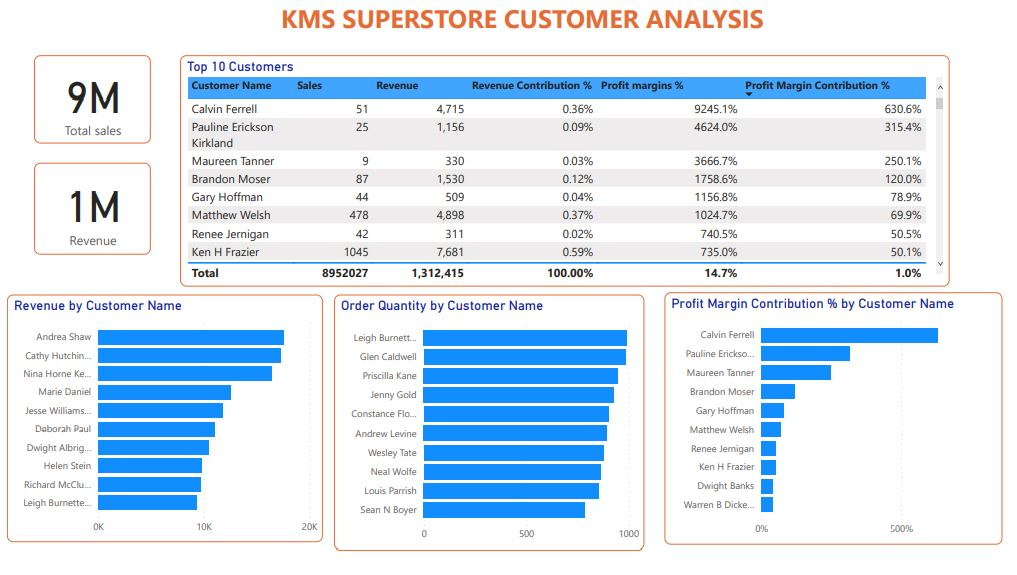

What the dashboard file says about the page in this screenshot:
{"tool":"powerbi","page":{"name":"Customer Insight","canvas":[1280,720],"ordinal":2},"visuals":[{"type":"tableEx","title":"Top 10 Customers","fields":{"Values":["Store.Customer Name","Sum(Store.Sales)","Store.Revenue","Store.Revenue Contribution %","Store.Profit margins %","Store.Profit Margin Contribution %"]},"box":[219.9,84.8,977.2,293.2],"z":0},{"type":"clusteredBarChart","fields":{"Y":["Sum(Store.Order Quantity)"],"Category":["Store.Customer Name"]},"box":[415.3,388,393.8,324.8],"z":2000},{"type":"clusteredBarChart","fields":{"Y":["Store.Revenue"],"Category":["Store.Customer Name"]},"box":[0,388,401,314.7],"z":3000},{"type":"clusteredBarChart","fields":{"Y":["Store.Profit Margin Contribution %"],"Category":["Store.Customer Name"]},"box":[835.7,384.5,428.9,321.3],"z":4000},{"type":"card","fields":{"Values":["Store.Revenue"]},"box":[34.5,221.3,148,116.4],"z":5000},{"type":"card","fields":{"Values":["Store.Total sales"]},"box":[34.5,84.8,148,112.1],"z":6000},{"type":"textbox","box":[336.3,10.1,636.6,54.6],"z":7000}]}

Visuals, with their boxes in screenshot pixels (x1, y1, x2, y2), scaled from the page's 1280x720 canvas onto the 1017x575 screenshot:
"Top 10 Customers" tableEx: bbox=(175, 68, 951, 302)
clusteredBarChart - Sum(Store.Order Quantity) x Store.Customer Name: bbox=(330, 310, 643, 569)
clusteredBarChart - Store.Revenue x Store.Customer Name: bbox=(0, 310, 319, 561)
clusteredBarChart - Store.Profit Margin Contribution % x Store.Customer Name: bbox=(664, 307, 1005, 564)
card - Store.Revenue: bbox=(27, 177, 145, 270)
card - Store.Total sales: bbox=(27, 68, 145, 157)
textbox: bbox=(267, 8, 773, 52)
